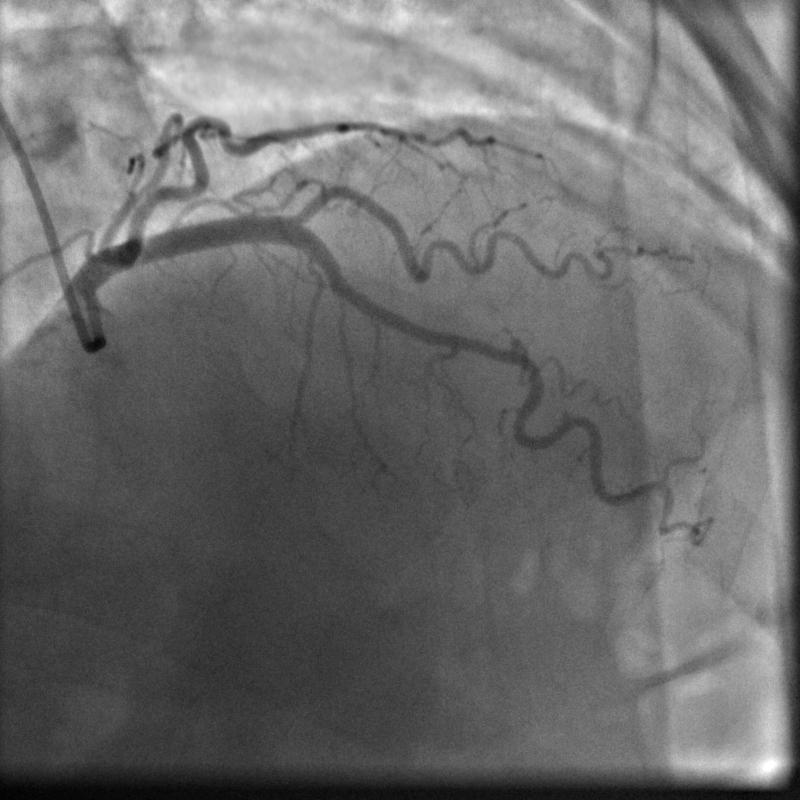Stenosis: (456, 335, 526, 371)
